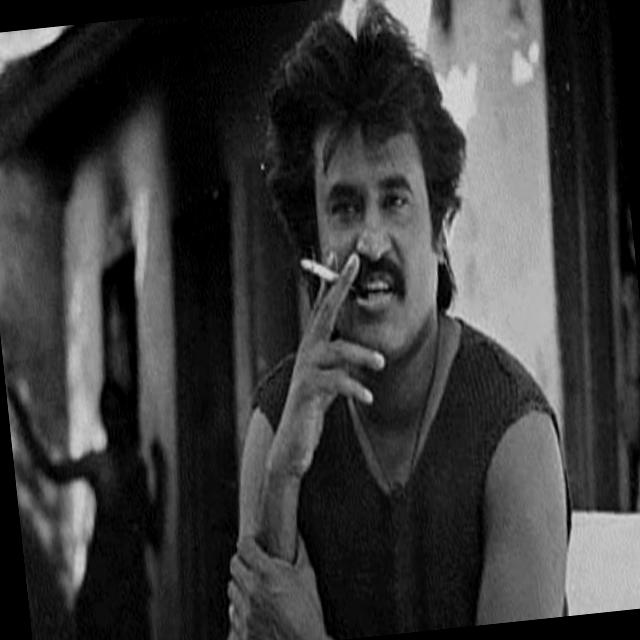cigarette: (298, 254, 344, 288)
